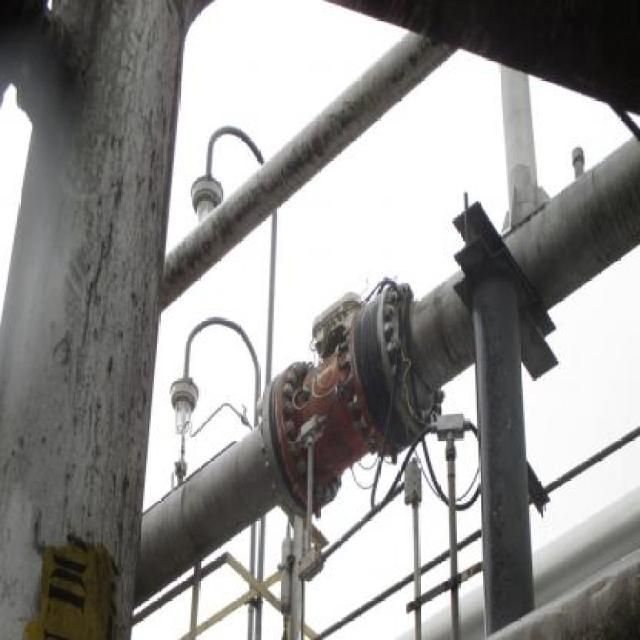gas: (134, 132, 640, 598), (160, 33, 457, 312)
